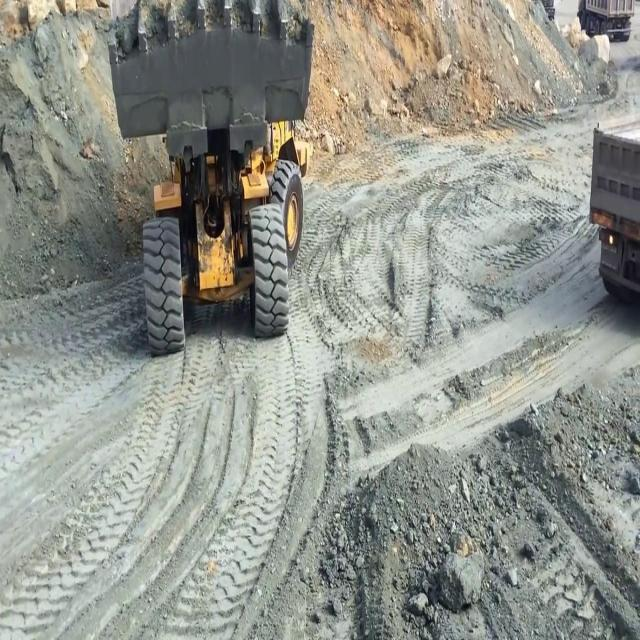buldozerpayloadergrader: (100, 0, 324, 358)
dump_truck: (587, 111, 639, 306), (577, 0, 633, 41)
